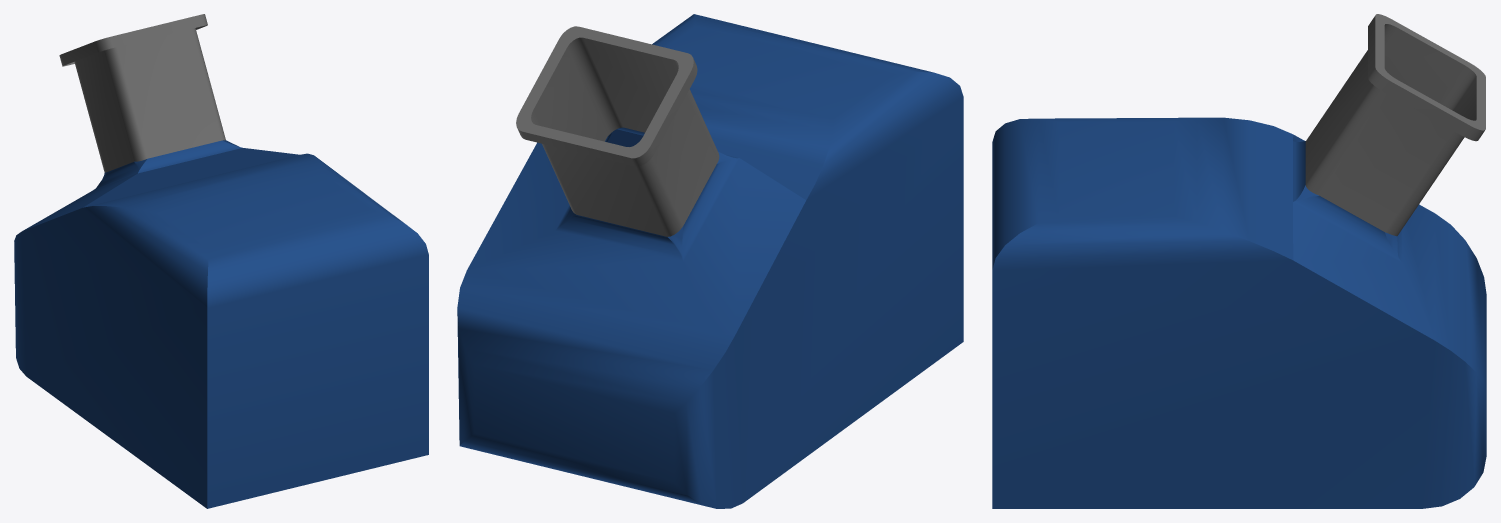
Rendered from tomato-cannon.glb.
3 renders of one model, left to right at view 1: azimuth 30°, elevation 25°; view 2: azimuth 150°, elevation 25°; view 3: azimuth 270°, elevation 25°, orthographic. The views are drawn at different scales.
Visible parts, largest first — view 1: catapult; view 2: catapult; view 3: catapult.
Boxes of the visible parts, x1,y1,x2,y2 form: catapult: (14,14,428,508); catapult: (457,14,963,508); catapult: (992,14,1486,508).
Size of the model in its own units: 17.61 by 25.7 by 28.61.
